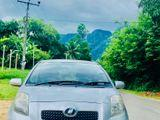car: (10, 58, 130, 120)
